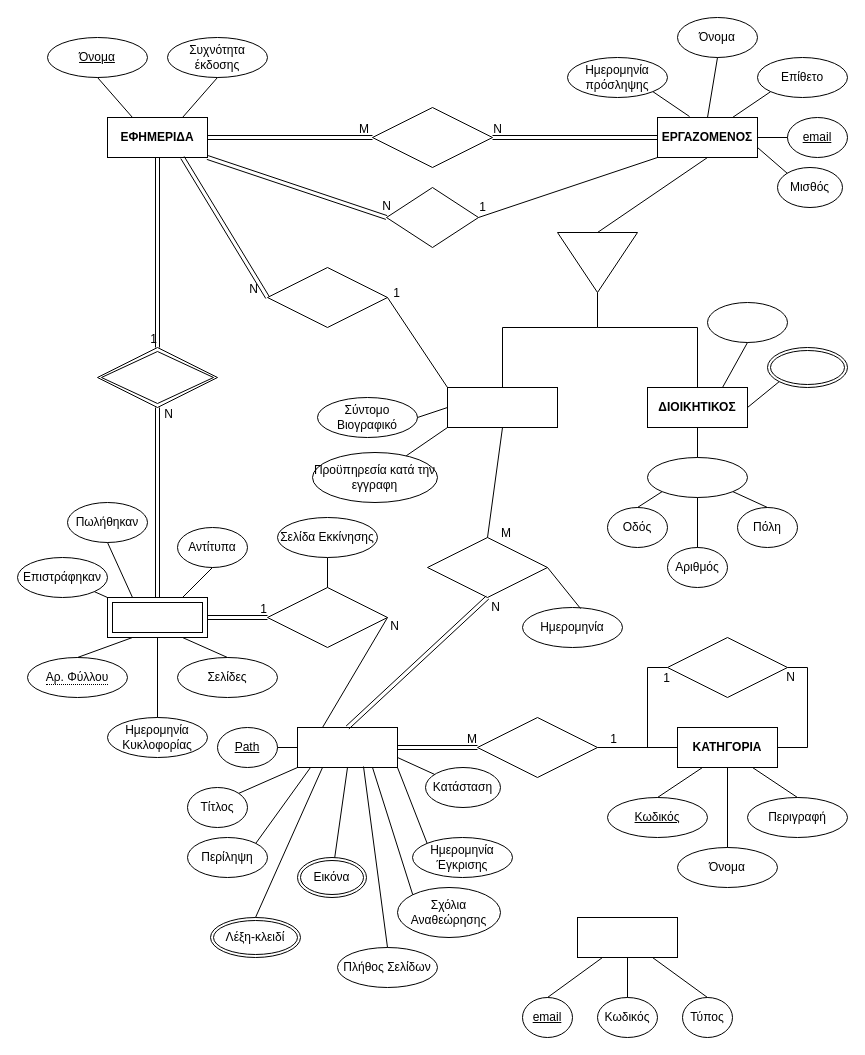
This 865x1055 diagram has some shape labels left out. The shapes that lost their labels are listed below. From the top down, each one's centre as x and y in pixels, then its label:
At (x=432, y=137): "Εργάζεται".
At (x=432, y=217): "Κατέχει".
At (x=597, y=262): "IS A".
At (x=327, y=297): "Διαχειρίζεται".
At (x=747, y=322): "Καθήκοντα".
At (x=157, y=377): "Εκδίδει".
At (x=807, y=367): "Τηλέφωνο".
At (x=502, y=407): "ΔΗΜΟΣΙΟΓΡΦΟΣ".
At (x=697, y=477): "Διεύθυνση".
At (x=487, y=567): "Υποβάλει".
At (x=157, y=617): "ΦΥΛΛΟ".
At (x=327, y=617): "Δημοσιεύει".
At (x=727, y=667): "Είναι γονική".
At (x=347, y=747): "ΑΡΘΡΟ".
At (x=537, y=747): "Ανήκει".
At (x=627, y=937): "Είσοδος".
